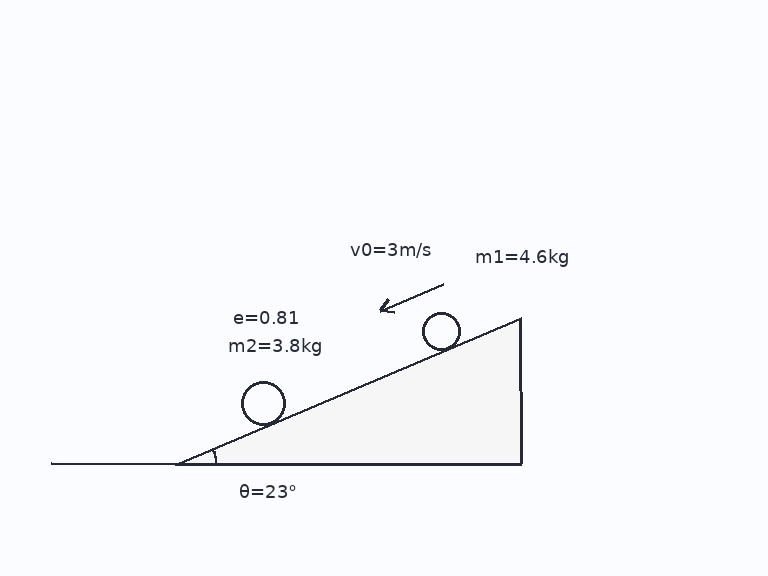ball: (239, 379, 287, 427), (420, 310, 462, 352)
ramp: (174, 316, 522, 466)
